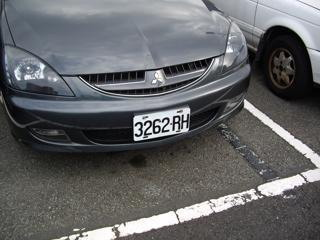plate: (131, 108, 191, 139)
